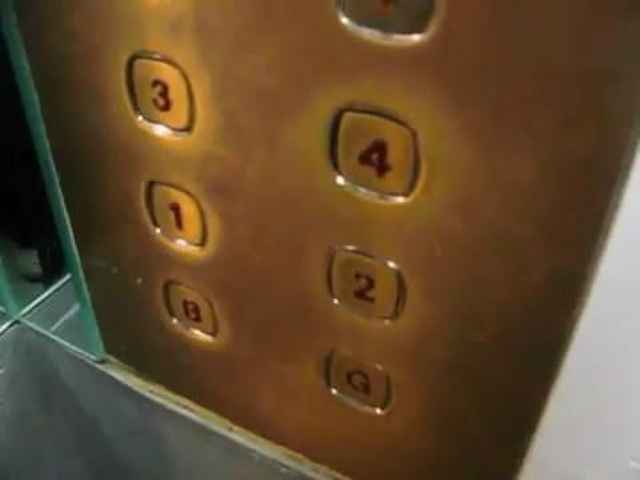1: (139, 174, 212, 254)
2: (322, 240, 406, 328)
3: (122, 49, 197, 136)
4: (325, 102, 425, 209)
B: (158, 275, 221, 345)
G: (322, 340, 395, 415)
